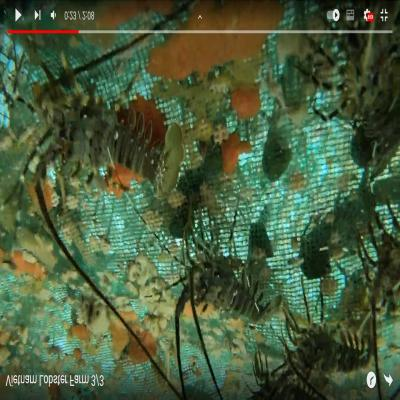lobster: (37, 92, 181, 179), (174, 226, 270, 326), (294, 305, 364, 376), (371, 209, 400, 317)
